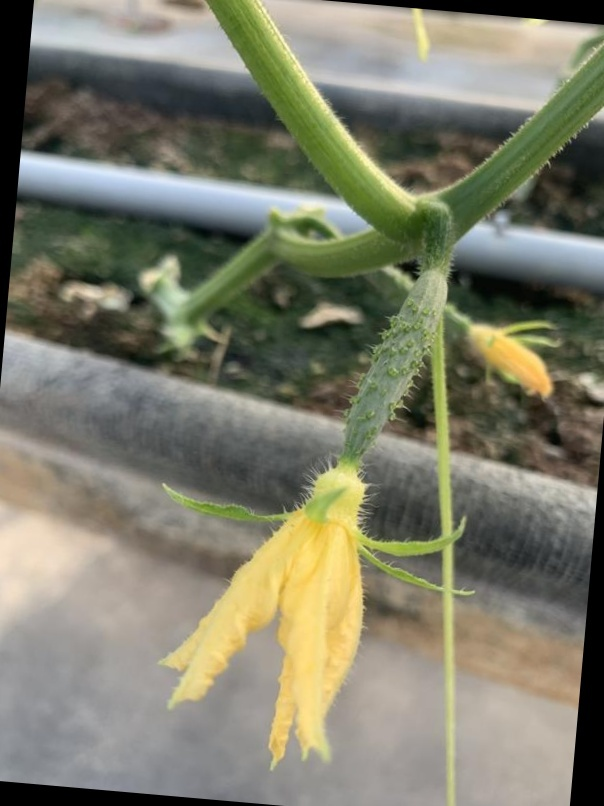bear: (129, 227, 498, 766)
